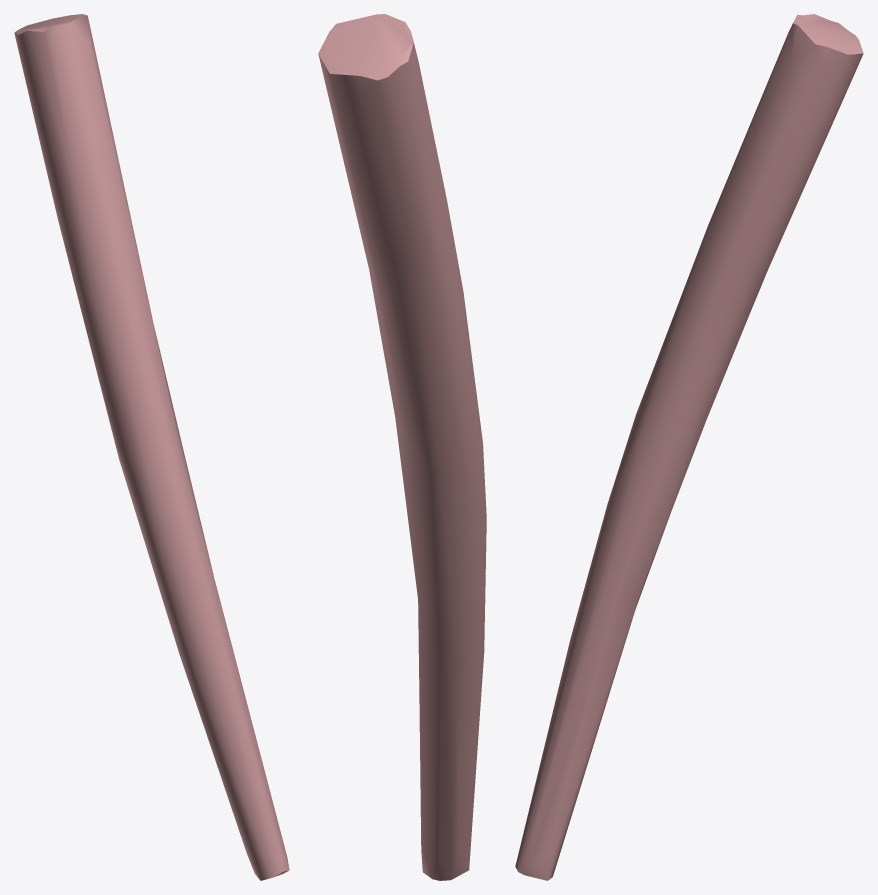
File: fma68594_fj6560.glb
The picture shows the model from 3 angles, left to right: view 1: azimuth 30°, elevation 25°; view 2: azimuth 150°, elevation 25°; view 3: azimuth 270°, elevation 25°; orthographic projection. The views are drawn at different scales.
Parts seen in each view (by area): view 1: FMA68594_FJ6560; view 2: FMA68594_FJ6560; view 3: FMA68594_FJ6560.
Part boxes in pixels (x1,y1,x2,y2): FMA68594_FJ6560: (14,14,289,880); FMA68594_FJ6560: (318,14,486,880); FMA68594_FJ6560: (515,14,863,880).
Bounding box in the file's own units: 0.00764 × 0.0454 × 0.0176.
